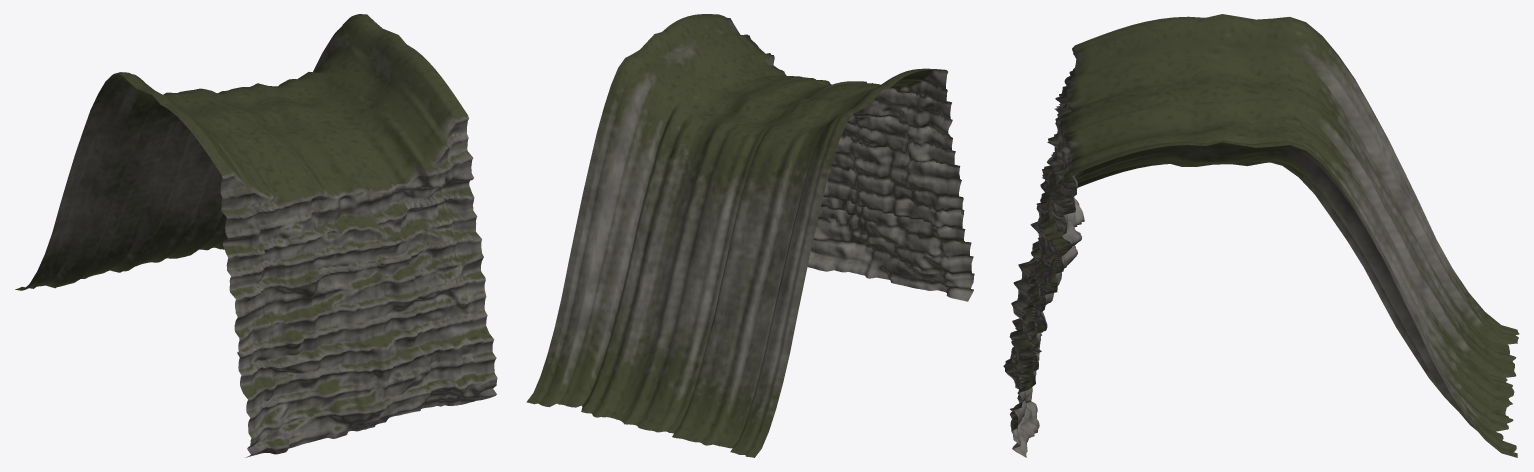
File: SM_cliff_01.fbx
3 views of the same model, side by side, from view 1: azimuth 30°, elevation 25°; view 2: azimuth 150°, elevation 25°; view 3: azimuth 270°, elevation 25° (orthographic). The views are drawn at different scales.
Parts seen in each view (by area): view 1: SM_cliff_01; view 2: SM_cliff_01; view 3: SM_cliff_01.
Part boxes in pixels (box(x1,y1,x2,y2)): SM_cliff_01: box(15, 14, 497, 457); SM_cliff_01: box(526, 14, 974, 457); SM_cliff_01: box(1003, 14, 1519, 457).
Bounding box in the file's own units: 24 × 27.54 × 40.84.
